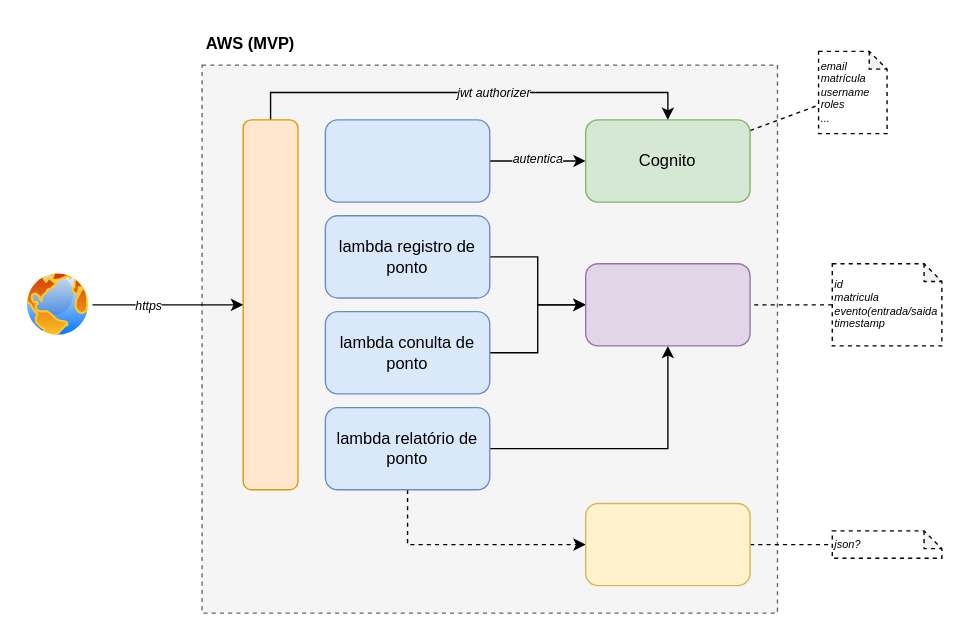
The diagram is 966 pixels wide and 637 high, and some of its shapes have lost their labels. The shapes that lost their labels are listed below. From the top down, each one's centre as x and y in pixels, then its label:
At point 407,160: "lambda autenticação".
At point 270,304: "API Gateway".
At point 667,304: "DocumentDB".
At point 667,544: "SES".
